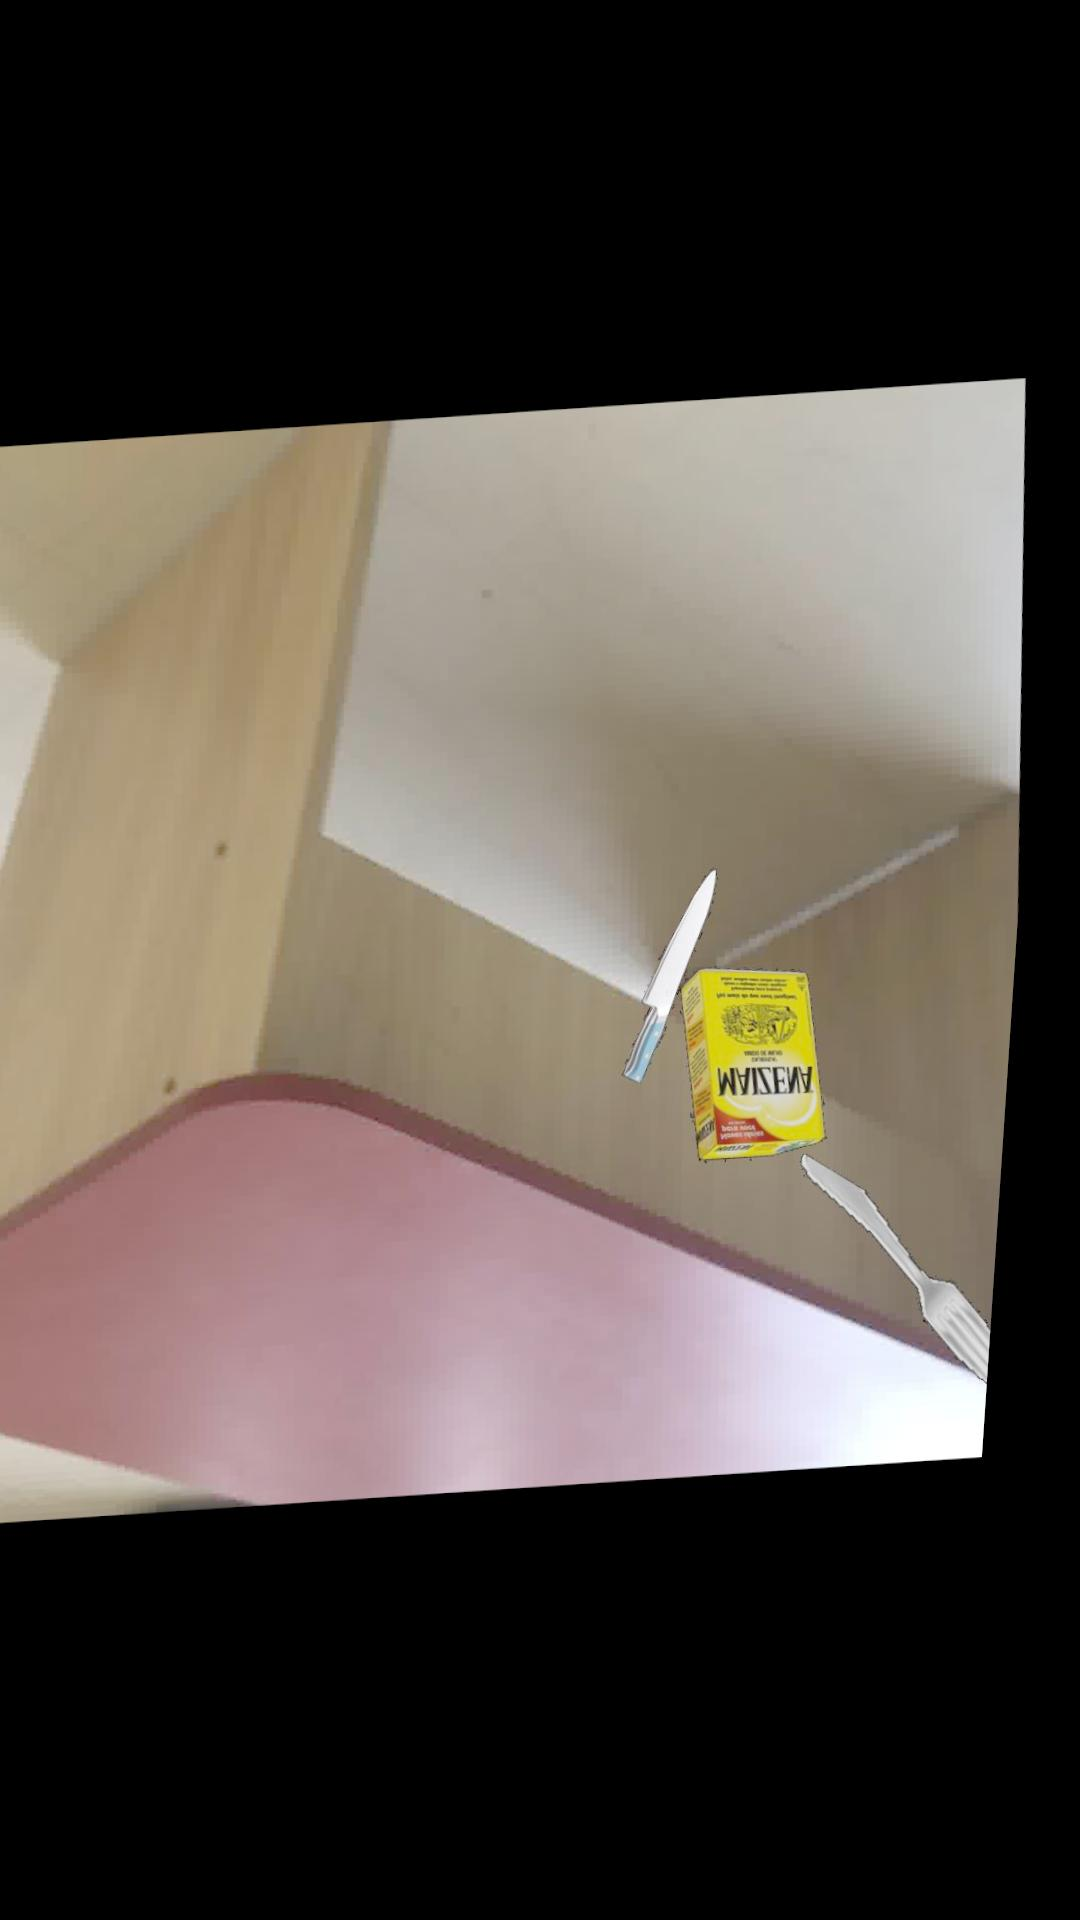fork: (818, 1154, 1010, 1383)
knife: (638, 868, 731, 1083)
